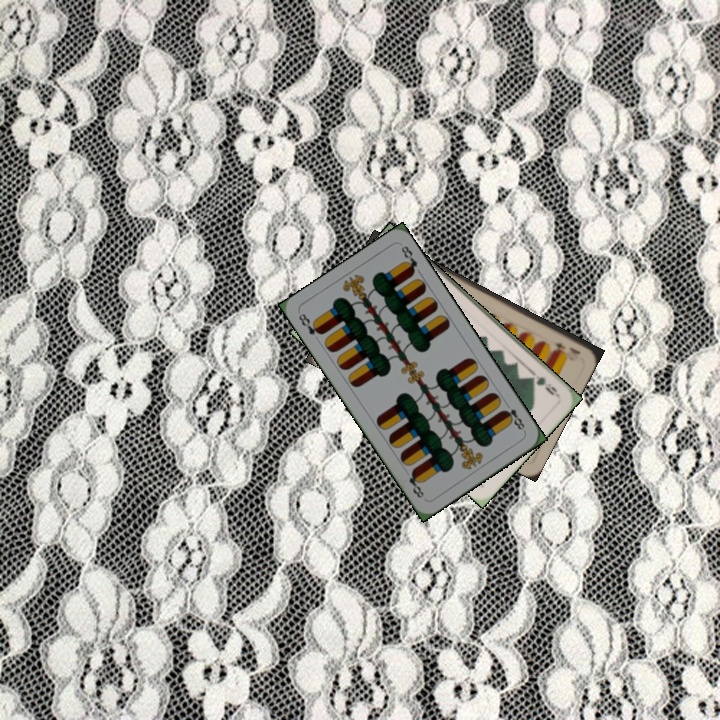E10: (549, 338, 583, 357)
E8: (499, 398, 527, 435), (294, 309, 325, 337)
G9: (525, 368, 562, 400)
